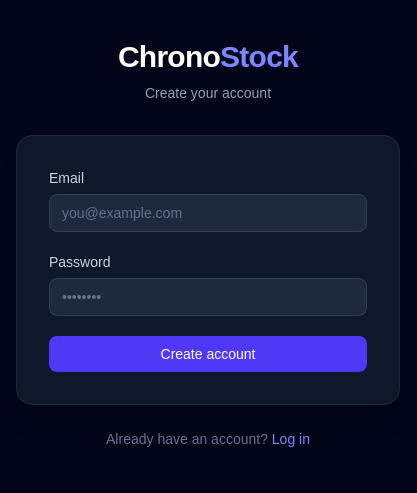
Test: SignupPage › renders signup errors
The width and height of the screenshot is (417, 493).
Type "new@example.com" into the field labelled "Email".
click(208, 213); type("new@example.com")  # box top-left (49, 194), bottom-right (367, 232)
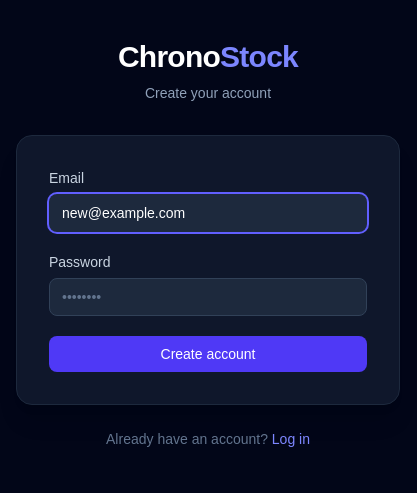
Type "secret" into the password field labelled "Password".
click(208, 297); type("secret")  # box top-left (49, 278), bottom-right (367, 316)
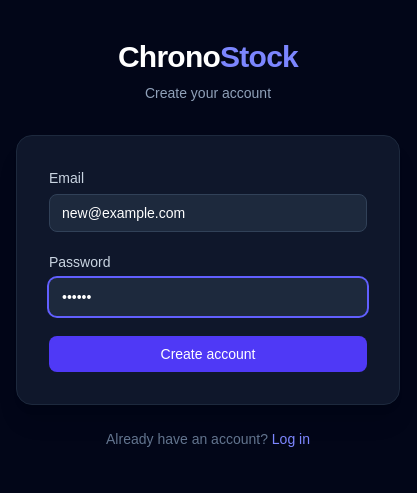
Click the button "Create account".
click(208, 354)  # box top-left (49, 336), bottom-right (367, 372)
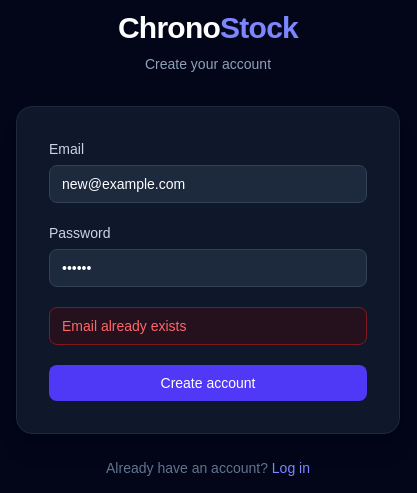
Now the text "Email already exists" is shown, box top-left (49, 307), bottom-right (367, 345)
